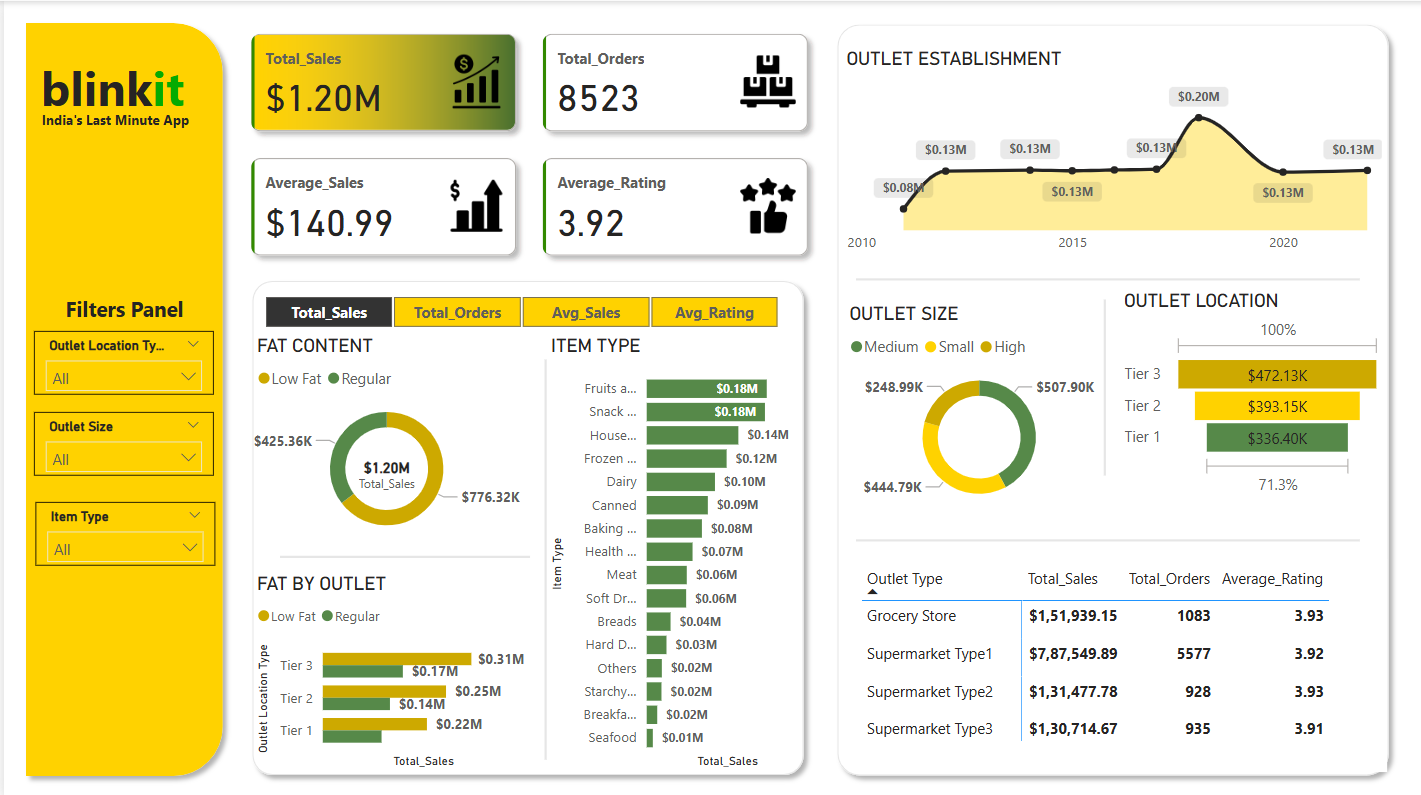

The page's visual inventory and layout, read from the dashboard file:
{"tool":"powerbi","page":{"name":"Dashboard","canvas":[1280,720],"ordinal":0},"visuals":[{"type":"cardVisual","fields":{"Data":["All_Measures.Total_Sales","All_Measures.Total_Orders","All_Measures.Average_Sales","All_Measures.Average_Rating"]},"box":[205.9,12.1,536,231.7],"z":0},{"type":"shape","box":[10.6,10.6,195.3,696.5],"z":1000},{"type":"textbox","box":[10.6,43.1,174.1,68.1],"z":2000},{"type":"textbox","box":[27.3,92.4,146.9,68.1],"z":3000},{"type":"shape","box":[215,243.8,514.8,463.3],"z":4000},{"type":"donutChart","title":"FAT CONTENT","fields":{"Y":["All_Measures.Total_Sales"],"Category":["BlinkIT Grocery Data.Item Fat Content"]},"box":[222.6,299.8,243.8,193.8],"z":5000},{"type":"slicer","fields":{"Values":["Metrices.Metrices"]},"box":[215,258.9,501.2,40.9],"z":6000},{"type":"cardVisual","fields":{"Data":["All_Measures.Total_Sales"]},"box":[301.3,381.6,87.8,93.9],"z":7000},{"type":"clusteredBarChart","title":"FAT BY OUTLET","fields":{"Y":["All_Measures.Total_Sales"],"Category":["BlinkIT Grocery Data.Outlet Location Type"],"Series":["BlinkIT Grocery Data.Item Fat Content"]},"box":[222.6,514.8,251.4,180.2],"z":8000},{"type":"shape","box":[248.3,493.6,225.6,15.1],"z":9000},{"type":"clusteredBarChart","title":"ITEM TYPE","fields":{"Y":["All_Measures.Total_Sales"],"Category":["BlinkIT Grocery Data.Item Type"]},"box":[487.6,299.8,242.3,395.2],"z":10000},{"type":"shape","box":[472.4,322.5,30.3,360.4],"z":11000},{"type":"shape","box":[742,12.1,514.8,695],"z":12000},{"type":"lineChart","title":" OUTLET ESTABLISHMENT","fields":{"Category":["BlinkIT Grocery Data.Outlet Establishment Year"],"Y":["All_Measures.Total_Sales"]},"box":[754.1,42.4,492.1,193.8],"z":13000},{"type":"shape","box":[767.7,243.8,454.3,15.1],"z":14000},{"type":"donutChart","title":"OUTLET SIZE","fields":{"Y":["All_Measures.Total_Sales"],"Category":["BlinkIT Grocery Data.Outlet Size"]},"box":[757.1,271,243.8,193.8],"z":15000},{"type":"funnel","title":"OUTLET LOCATION","fields":{"Y":["All_Measures.Total_Sales"],"Category":["BlinkIT Grocery Data.Outlet Location Type"]},"box":[1003.9,258.9,242.3,190.8],"z":16000},{"type":"shape","box":[979.7,269.5,24.2,159],"z":17000},{"type":"shape","box":[767.7,478.5,454.3,15.1],"z":18000},{"type":"pivotTable","fields":{"Rows":["BlinkIT Grocery Data.Outlet Type"],"Values":["All_Measures.Total_Sales","All_Measures.Total_Orders","All_Measures.Average_Rating"]},"box":[767.7,502.7,478.5,192.3],"z":19000},{"type":"slicer","fields":{"Values":["BlinkIT Grocery Data.Outlet Location Type"]},"box":[27.3,296.8,162,57.5],"z":20001},{"type":"slicer","fields":{"Values":["BlinkIT Grocery Data.Outlet Size"]},"box":[27.3,371,162,57.5],"z":20002},{"type":"slicer","fields":{"Values":["BlinkIT Grocery Data.Item Type"]},"box":[28.8,451.2,162,57.5],"z":20003},{"type":"textbox","box":[28.8,258.9,160.5,37.9],"z":20004}]}

Visuals, with their boxes in screenshot pixels (x1, y1, x2, y2), scaled from the page's 1280x720 canvas onto the 1421x795 screenshot:
cardVisual - All_Measures.Total_Sales x All_Measures.Total_Orders: <bbox>229, 13, 824, 269</bbox>
shape: <bbox>12, 12, 229, 781</bbox>
textbox: <bbox>12, 48, 205, 123</bbox>
textbox: <bbox>30, 102, 193, 177</bbox>
shape: <bbox>239, 269, 810, 781</bbox>
"FAT CONTENT" donutChart: <bbox>247, 331, 518, 545</bbox>
slicer - Metrices.Metrices: <bbox>239, 286, 795, 331</bbox>
cardVisual - All_Measures.Total_Sales: <bbox>334, 421, 432, 525</bbox>
"FAT BY OUTLET" clusteredBarChart: <bbox>247, 568, 526, 767</bbox>
shape: <bbox>276, 545, 526, 562</bbox>
"ITEM TYPE" clusteredBarChart: <bbox>541, 331, 810, 767</bbox>
shape: <bbox>524, 356, 558, 754</bbox>
shape: <bbox>824, 13, 1395, 781</bbox>
" OUTLET ESTABLISHMENT" lineChart: <bbox>837, 47, 1383, 261</bbox>
shape: <bbox>852, 269, 1357, 286</bbox>
"OUTLET SIZE" donutChart: <bbox>840, 299, 1111, 513</bbox>
"OUTLET LOCATION" funnel: <bbox>1114, 286, 1383, 497</bbox>
shape: <bbox>1088, 298, 1114, 473</bbox>
shape: <bbox>852, 528, 1357, 545</bbox>
pivotTable - BlinkIT Grocery Data.Outlet Type x All_Measures.Total_Sales: <bbox>852, 555, 1383, 767</bbox>
slicer - BlinkIT Grocery Data.Outlet Location Type: <bbox>30, 328, 210, 391</bbox>
slicer - BlinkIT Grocery Data.Outlet Size: <bbox>30, 410, 210, 473</bbox>
slicer - BlinkIT Grocery Data.Item Type: <bbox>32, 498, 212, 562</bbox>
textbox: <bbox>32, 286, 210, 328</bbox>
